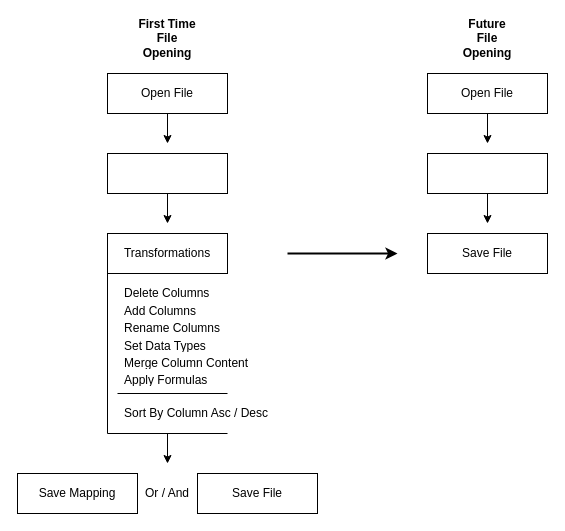
Image size: 565x531. Some labels were removed from this diagram. Here are the shapes that lost their labels. From the top down, the centre of each, then its label:
(x=167, y=173): Select Header Row
(x=487, y=173): Select and Apply available mapping
